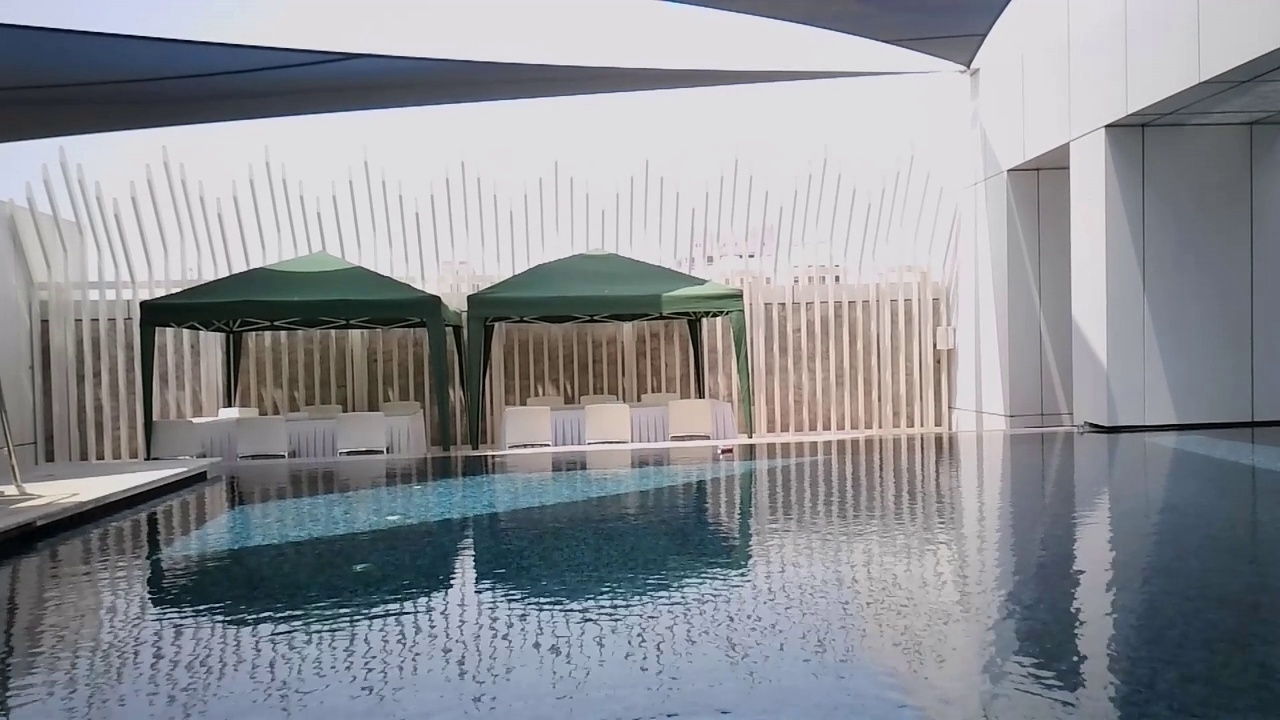debris: (713, 442, 735, 457), (1073, 421, 1091, 438)
